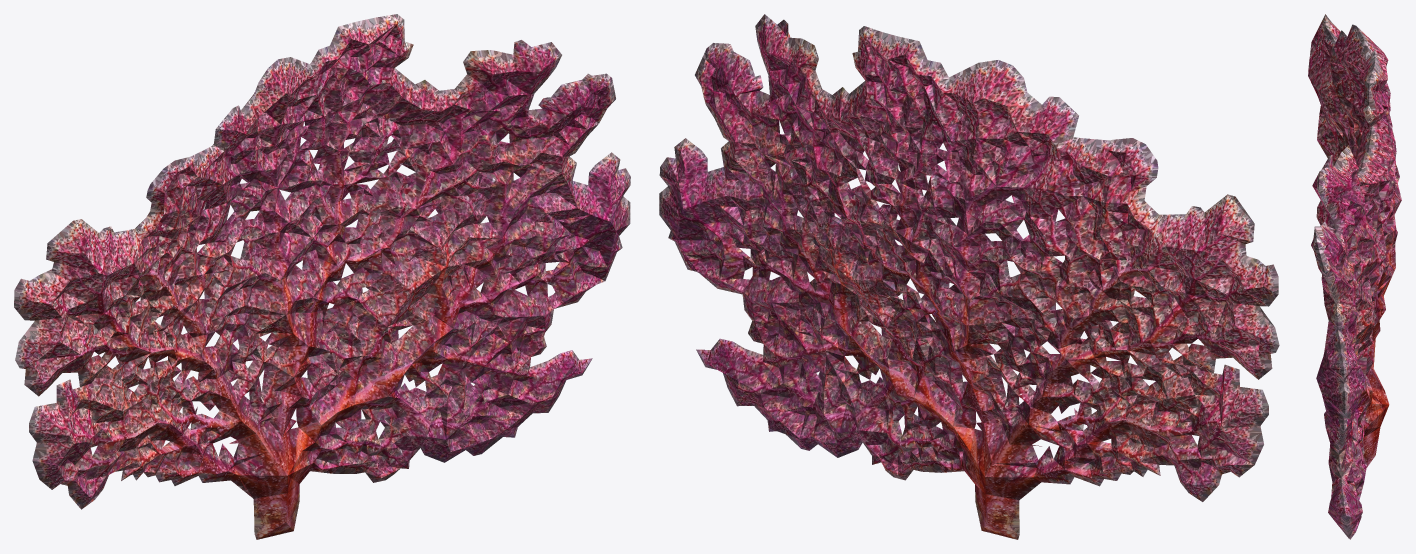
The model's file is sea-fan-distant.glb.
3 views of the same model, side by side, from view 1: azimuth 30°, elevation 25°; view 2: azimuth 150°, elevation 25°; view 3: azimuth 270°, elevation 25° (orthographic). The views are drawn at different scales.
Visible parts, largest first — view 1: world; view 2: world; view 3: world.
Boxes of the visible parts, bbox=[...] form: world: bbox=[14, 14, 630, 539]; world: bbox=[659, 14, 1279, 539]; world: bbox=[1308, 14, 1401, 539].
Size of the model in its own units: 1.79 by 1.34 by 0.2506.
Materials: 1 (1 with a texture image).
